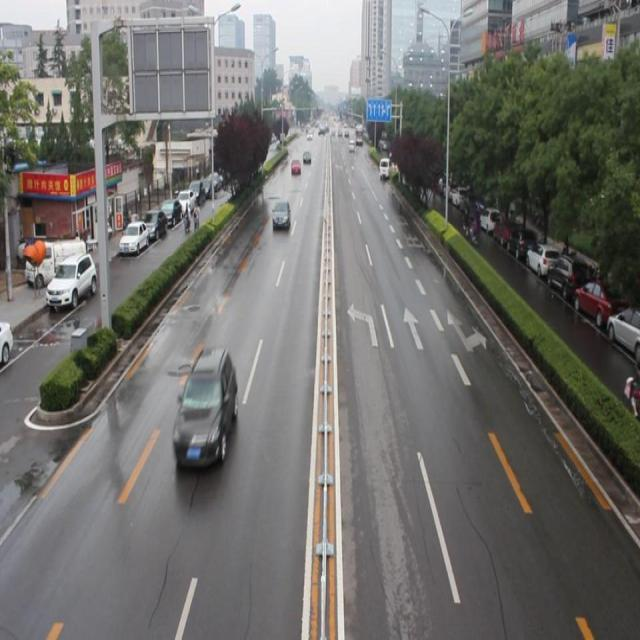car: (171, 350, 238, 465), (271, 199, 291, 229), (290, 157, 302, 174)
truck: (378, 155, 390, 180)
